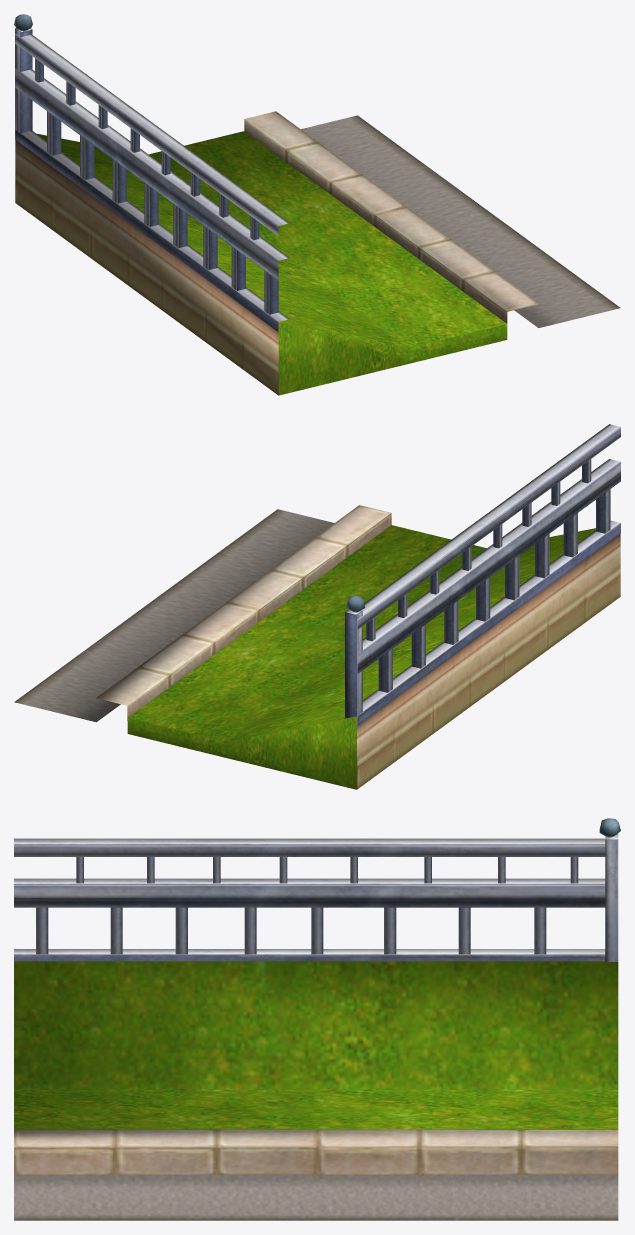
Rendered from a_SElawn02.glb.
3 renders of one model, top to bottom at view 1: azimuth 30°, elevation 25°; view 2: azimuth 150°, elevation 25°; view 3: azimuth 270°, elevation 25°, orthographic. The views are drawn at different scales.
Visible parts, largest first — view 1: a_SElawn02; view 2: a_SElawn02; view 3: a_SElawn02.
Part boxes in pixels (box(x1,y1,x2,y2)): a_SElawn02: box(14, 14, 620, 395); a_SElawn02: box(14, 424, 620, 789); a_SElawn02: box(14, 818, 620, 1220).
Bounding box in the file's own units: 2.27 × 1.19 × 3.01.
1 material, 1 textured.
